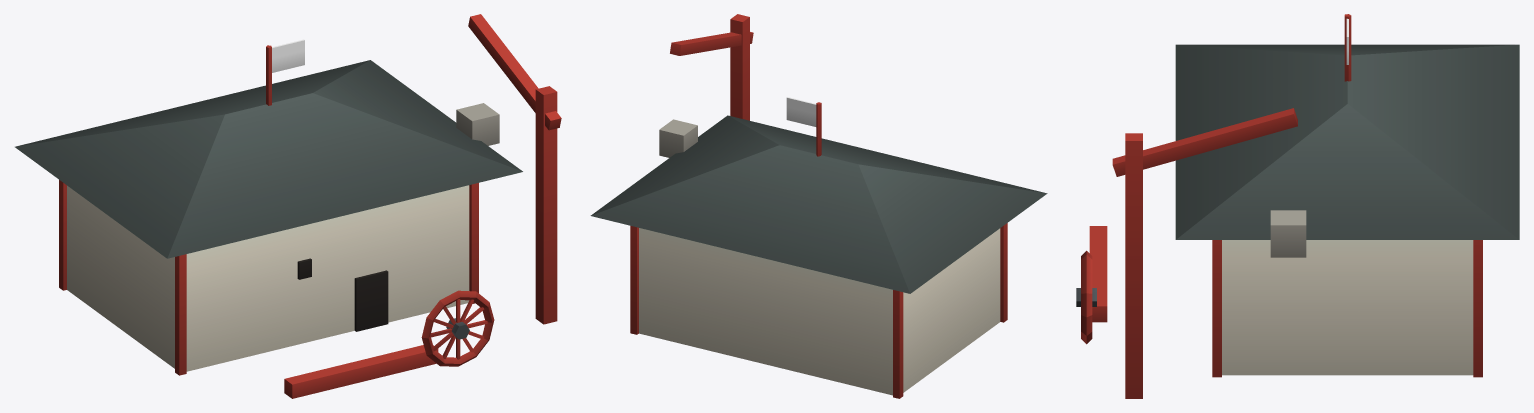
File: WAR_EA.glb
3 renders of one model, left to right at view 1: azimuth 30°, elevation 25°; view 2: azimuth 150°, elevation 25°; view 3: azimuth 270°, elevation 25°, orthographic. The views are drawn at different scales.
Visible parts, largest first — view 1: Body, Wheel_parts, Flag; view 2: Body, Flag; view 3: Body, Wheel_parts.
Boxes of the visible parts, x1,y1,x2,y2 form: Body: (15, 14, 561, 398); Wheel_parts: (421, 290, 494, 366); Flag: (272, 39, 304, 72); Body: (590, 14, 1047, 398); Flag: (786, 97, 816, 126); Body: (1089, 14, 1519, 398); Wheel_parts: (1076, 250, 1096, 344).
Size of the model in its own units: 4.1 by 2.69 by 3.74.
Materials: 1 (1 with a texture image).
